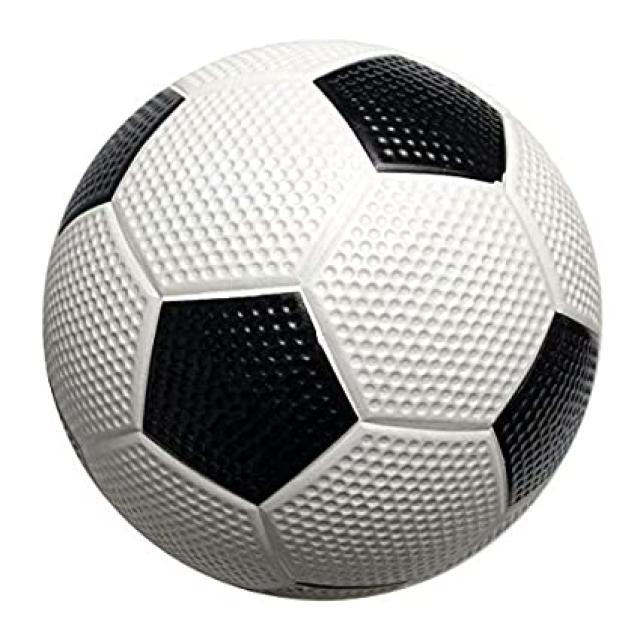soccer ball: (39, 42, 598, 604)
